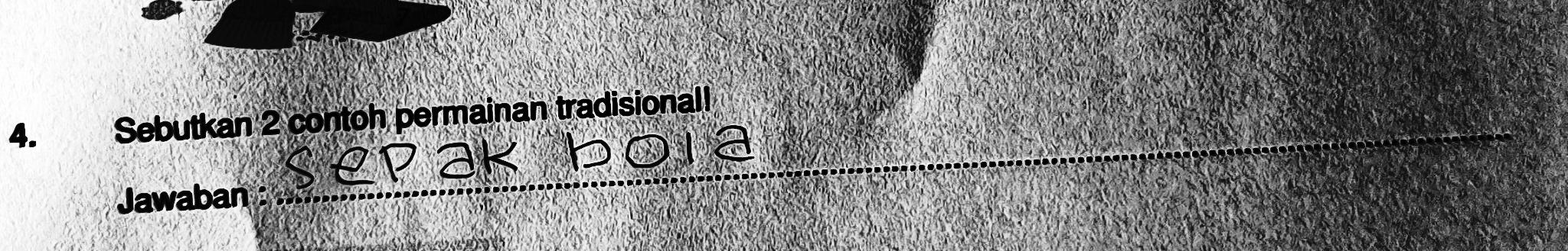jawaban: (279, 133, 522, 190), (562, 119, 757, 172)
